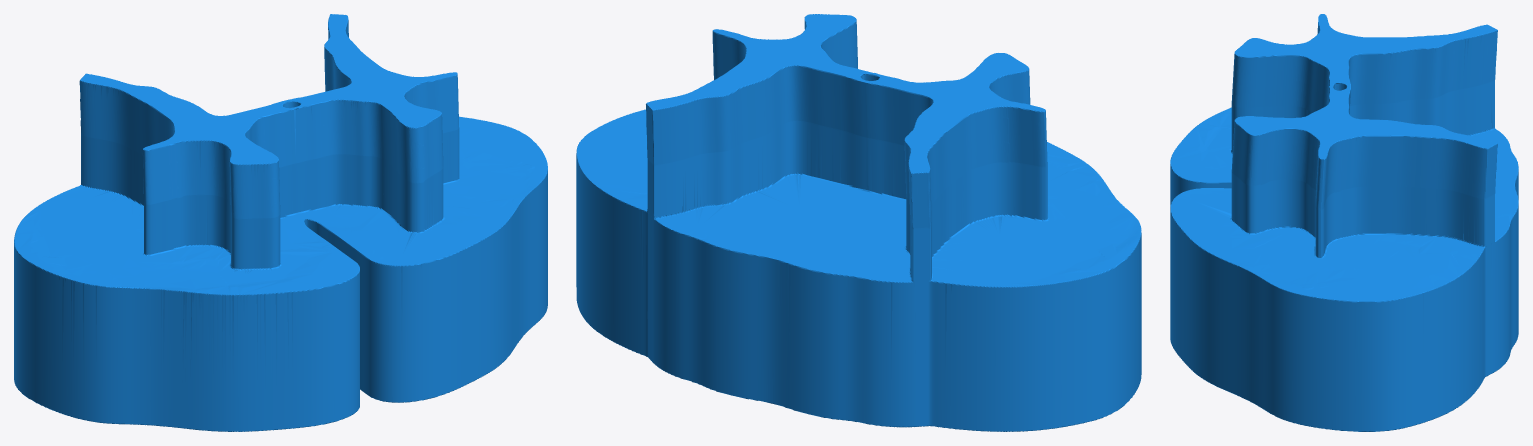
The model's file is 3DPX-023484.glb.
3 renders of one model, left to right at view 1: azimuth 30°, elevation 25°; view 2: azimuth 150°, elevation 25°; view 3: azimuth 270°, elevation 25°, orthographic. The views are drawn at different scales.
Visible parts, largest first — view 1: thoracic_spinal_cord_segment_NIH3D; view 2: thoracic_spinal_cord_segment_NIH3D; view 3: thoracic_spinal_cord_segment_NIH3D.
Boxes of the visible parts, x1,y1,x2,y2 form: thoracic_spinal_cord_segment_NIH3D: (14, 14, 547, 431); thoracic_spinal_cord_segment_NIH3D: (576, 14, 1141, 431); thoracic_spinal_cord_segment_NIH3D: (1170, 14, 1518, 431).
Size of the model in its own units: 42.11 by 19.28 by 26.59.
